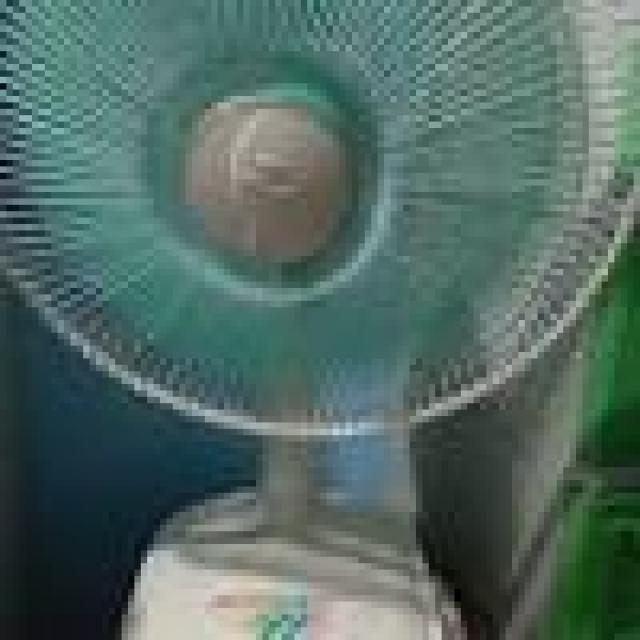fan: (4, 4, 640, 639)
